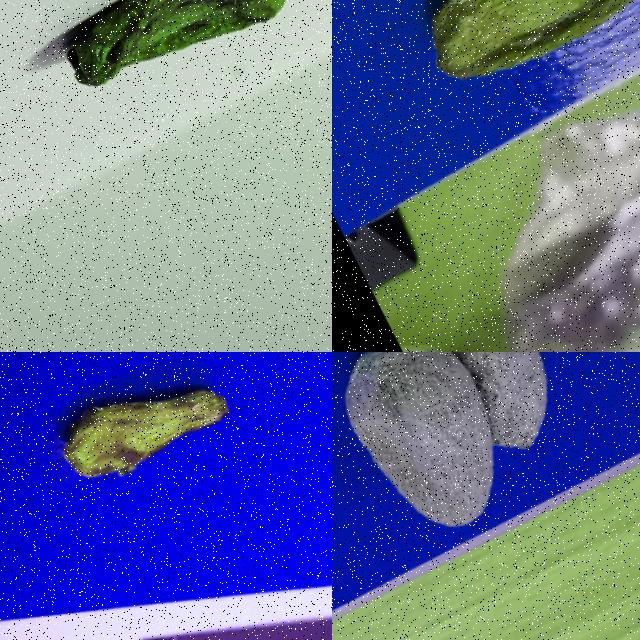Agglomerated_cocoabeans: (332, 352, 639, 610)
Flat_cocoabeans: (0, 352, 331, 551), (0, 0, 331, 176), (336, 0, 639, 178)
